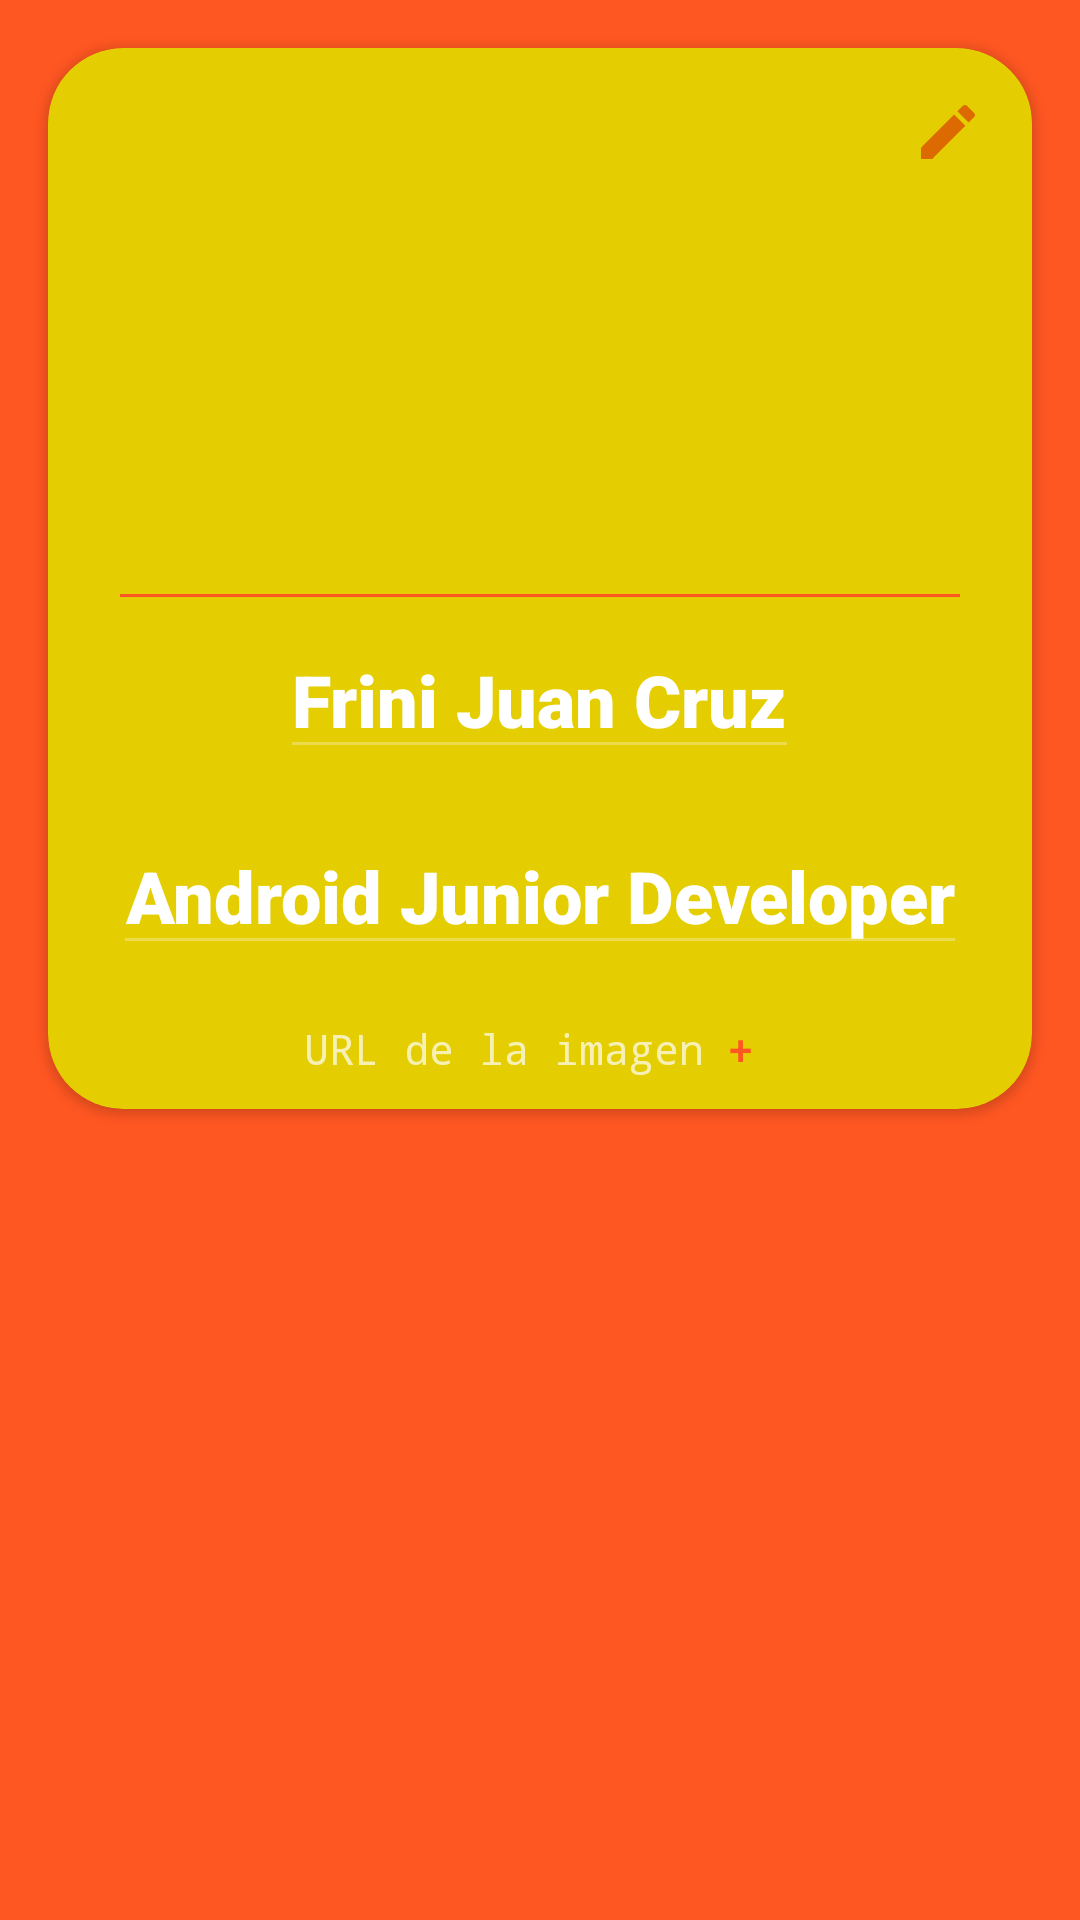

Point at icon controls on the screen. Image size 1080x1920, points as [x,y].
mode edit: [948,132]
